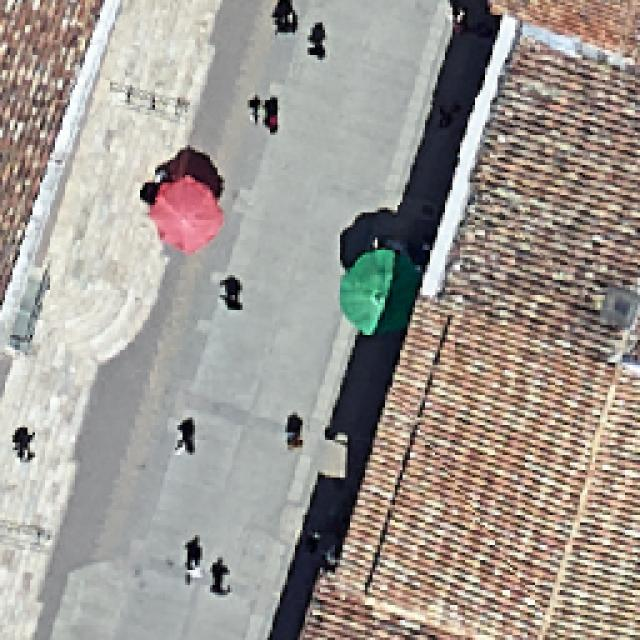vendedor_ambulante: (336, 246, 422, 338), (148, 174, 228, 260)
